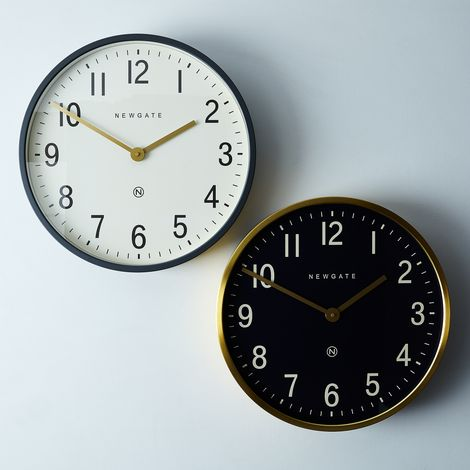clock: (29, 43, 251, 263), (236, 204, 443, 425)
